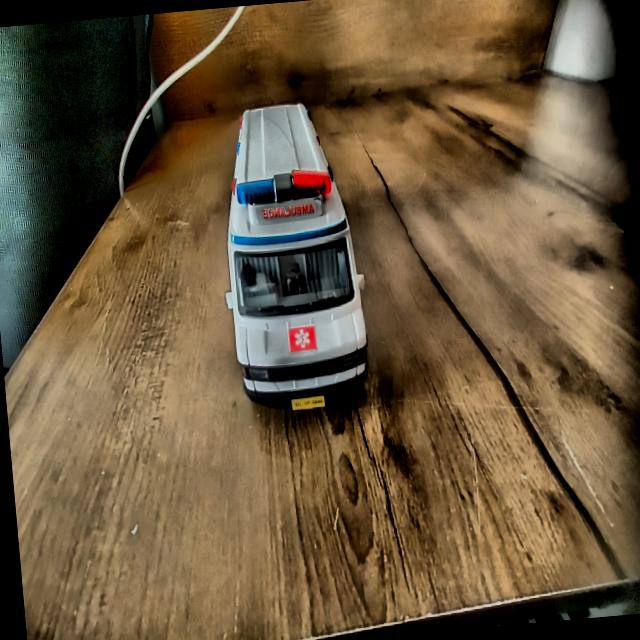Ambulance: (210, 99, 373, 413), (232, 166, 335, 222)
